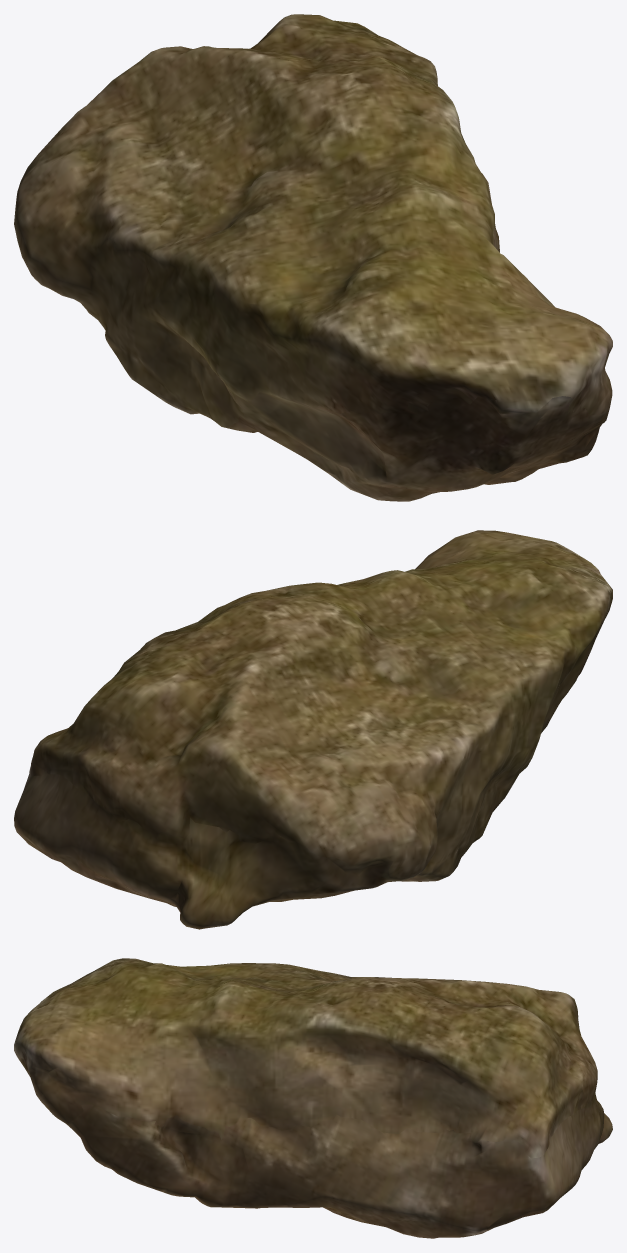
Rendered from moss_c.glb.
The picture shows the model from 3 angles, top to bottom: view 1: azimuth 30°, elevation 25°; view 2: azimuth 150°, elevation 25°; view 3: azimuth 270°, elevation 25°; orthographic projection. The views are drawn at different scales.
Visible parts, largest first — view 1: rock_moss_set_01_rock05; view 2: rock_moss_set_01_rock05; view 3: rock_moss_set_01_rock05.
Boxes of the visible parts, box(x1,y1,x2,y2) form: rock_moss_set_01_rock05: box(14, 14, 612, 501); rock_moss_set_01_rock05: box(14, 530, 612, 929); rock_moss_set_01_rock05: box(14, 958, 612, 1238).
Bounding box in the file's own units: 1.81 × 1.2 × 3.
1 material, 1 textured.
